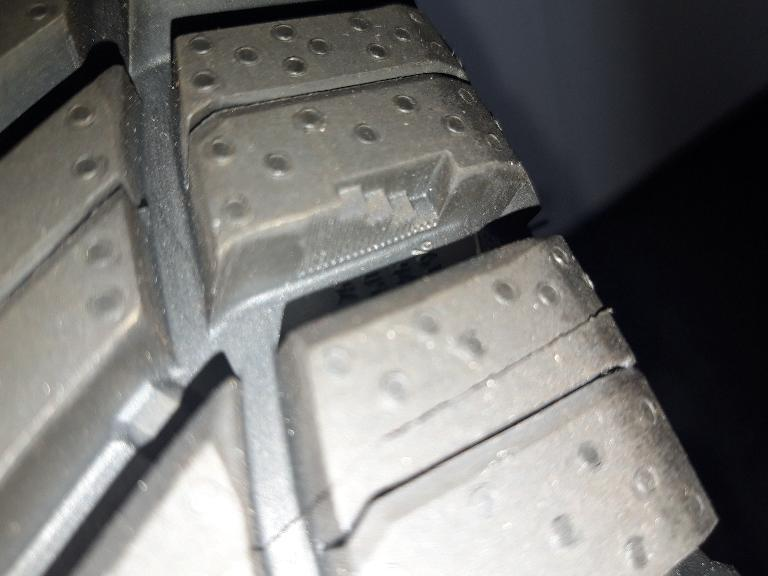temoin:100: (301, 148, 462, 275)
